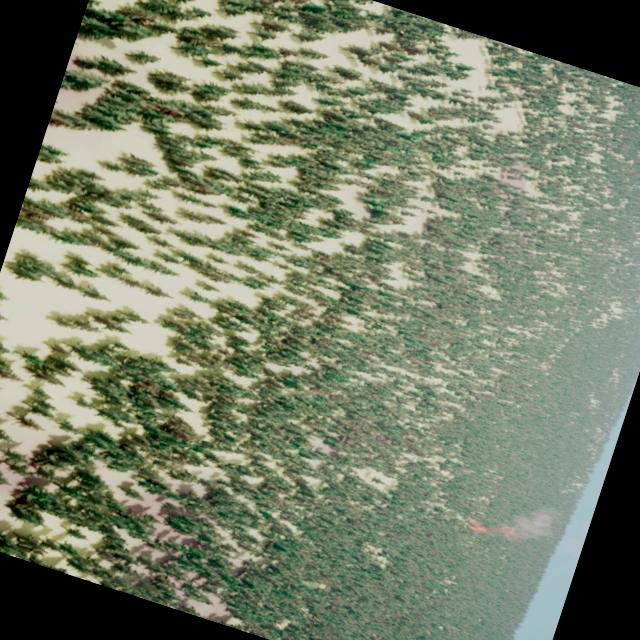fire: (462, 518, 488, 536)
smoke: (488, 497, 560, 556)
